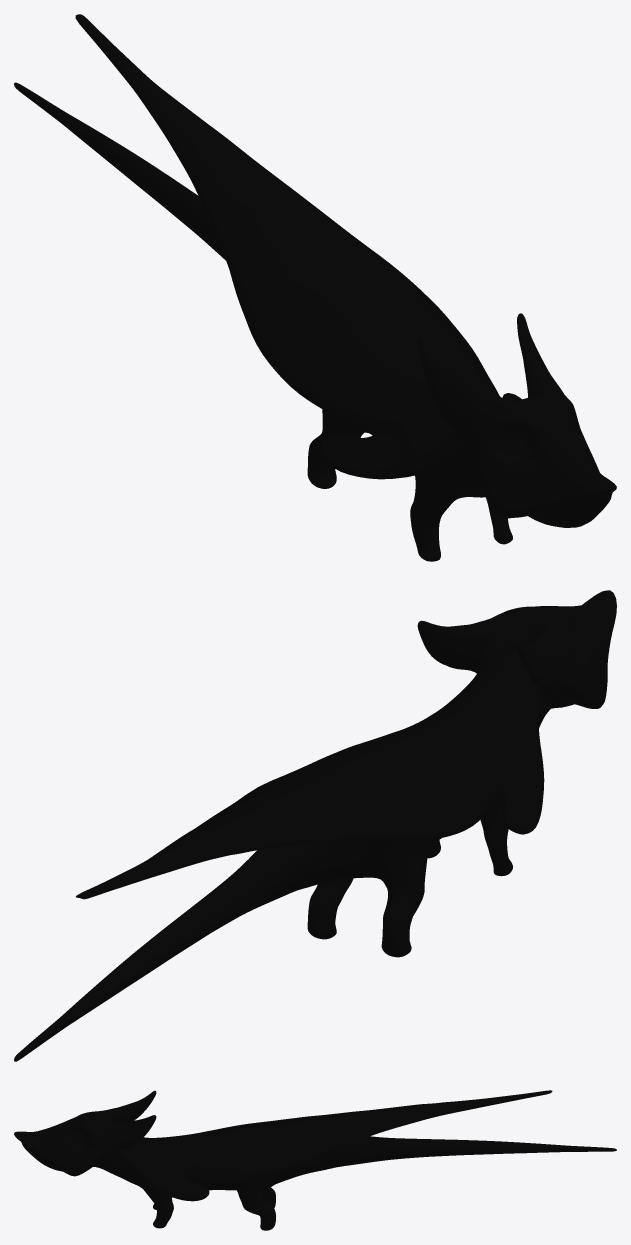
The model's file is Draghi-Dragon.glb.
3 renders of one model, top to bottom at view 1: azimuth 30°, elevation 25°; view 2: azimuth 150°, elevation 25°; view 3: azimuth 270°, elevation 25°, orthographic. The views are drawn at different scales.
Parts seen in each view (by area): view 1: Draghi-Dragon; view 2: Draghi-Dragon; view 3: Draghi-Dragon.
Boxes of the visible parts, box(x1,y1,x2,y2) form: Draghi-Dragon: box(14, 14, 616, 561); Draghi-Dragon: box(14, 590, 616, 1061); Draghi-Dragon: box(14, 1090, 616, 1230).
Bounding box in the file's own units: 1 × 1.2 × 5.04.
Materials: 1 (1 with a texture image).
